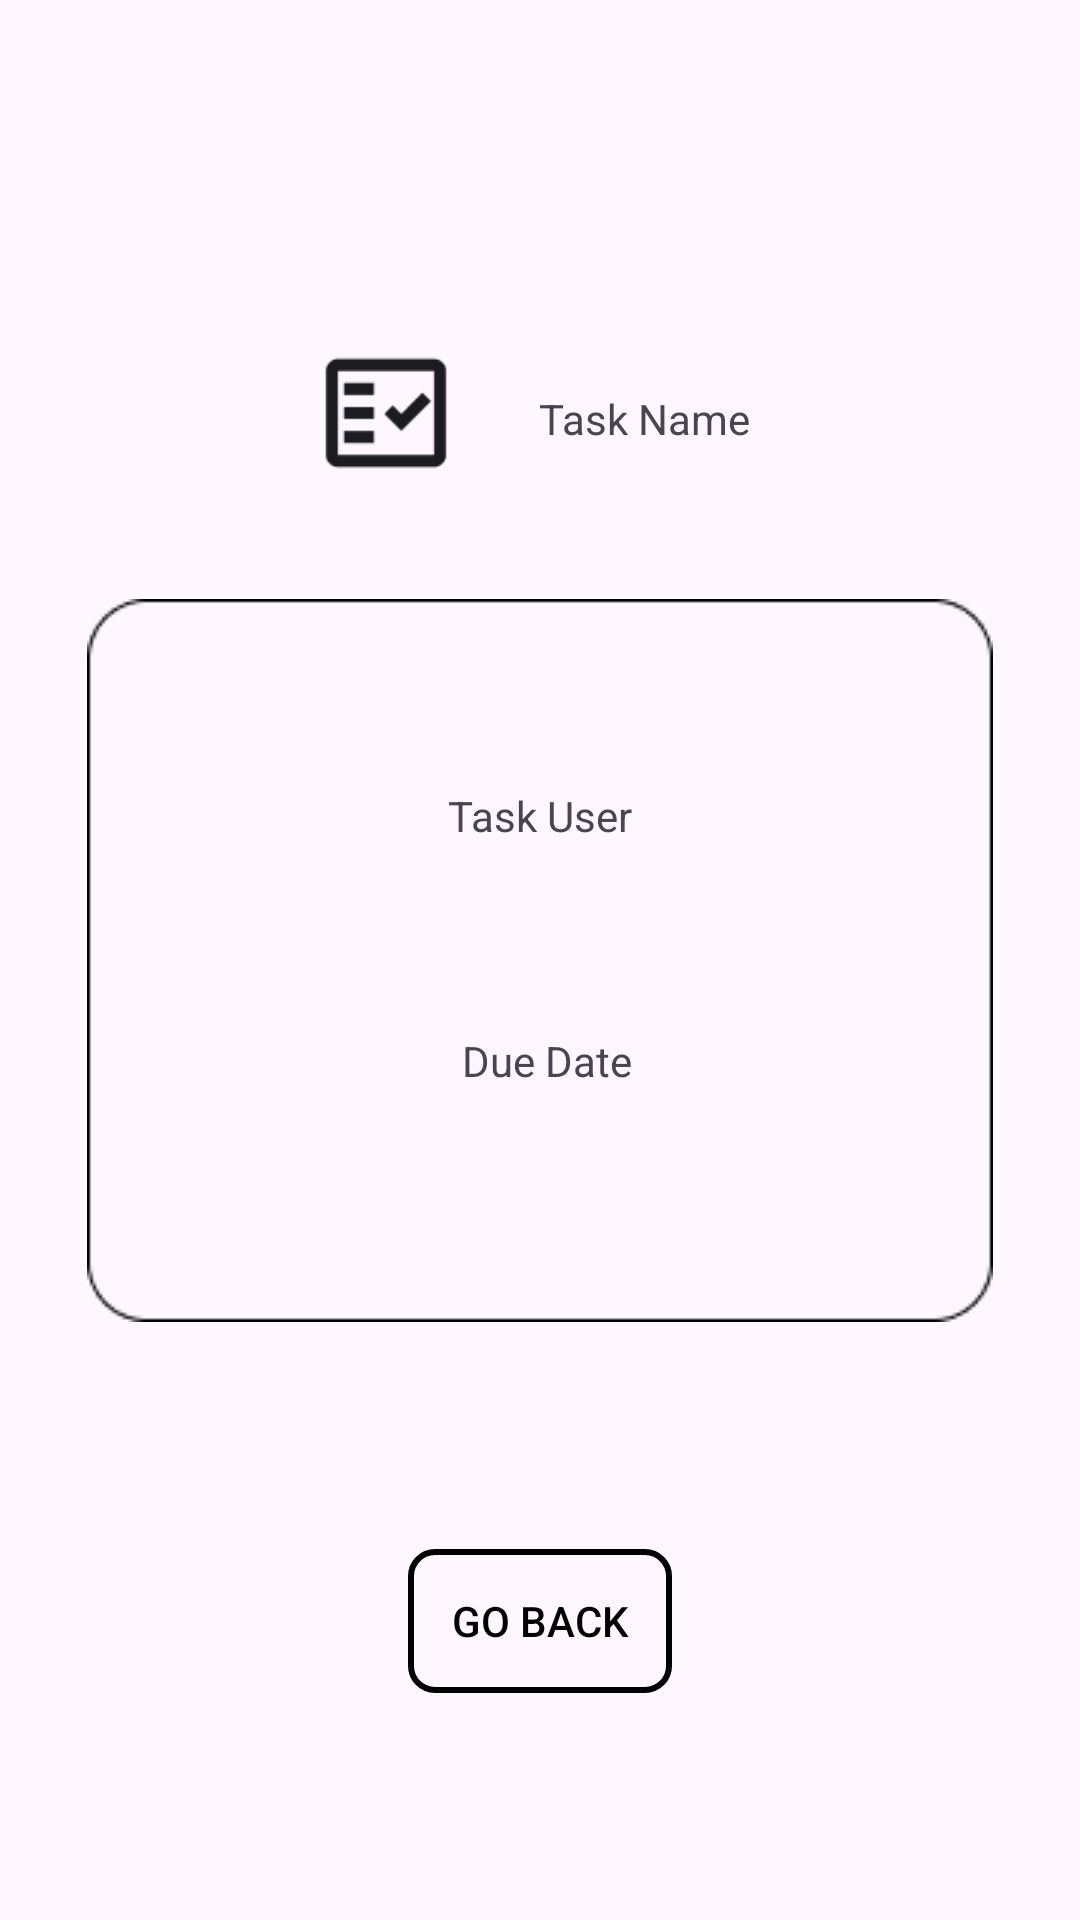

Named icons in this screenshot (1080 × 1920) and their bounding boxes, (x1, y1, x2, y2):
fact check: (325, 358, 447, 468)
